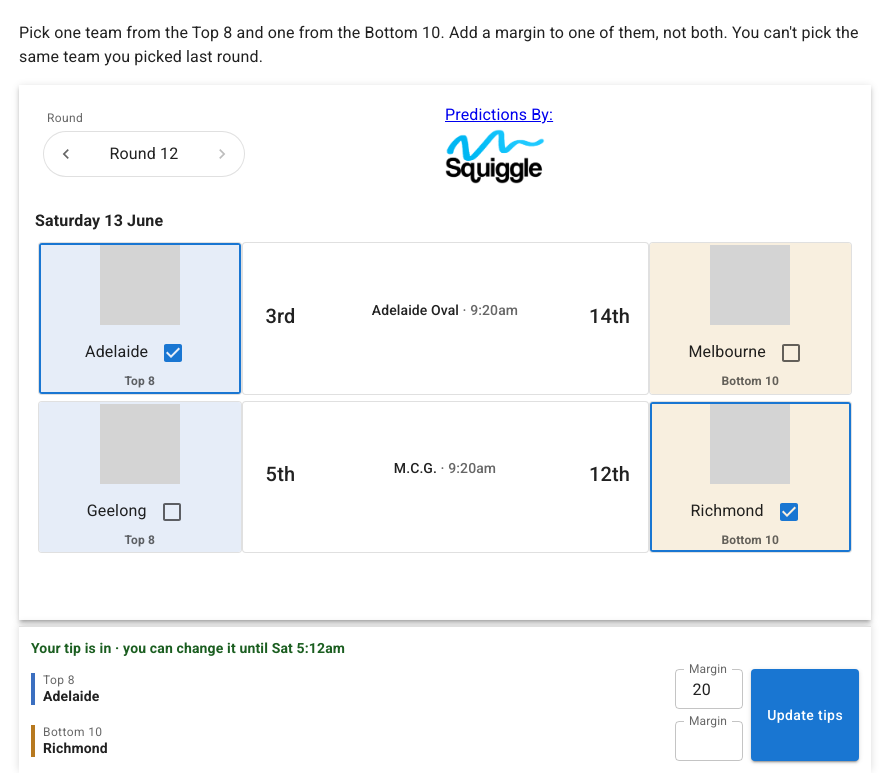
Scenario: the tip being entered stays in view › a changed margin says so, and putting it back says it is in
expect the checkbox labelled "Adelaide Top 8" is checked: met, box top-left (39, 243), bottom-right (240, 394)
Replace the text in the number field named "Margin for Adelaide" with "21" at (709, 689), box top-left (675, 669), bottom-right (743, 709)
(page scrolled)
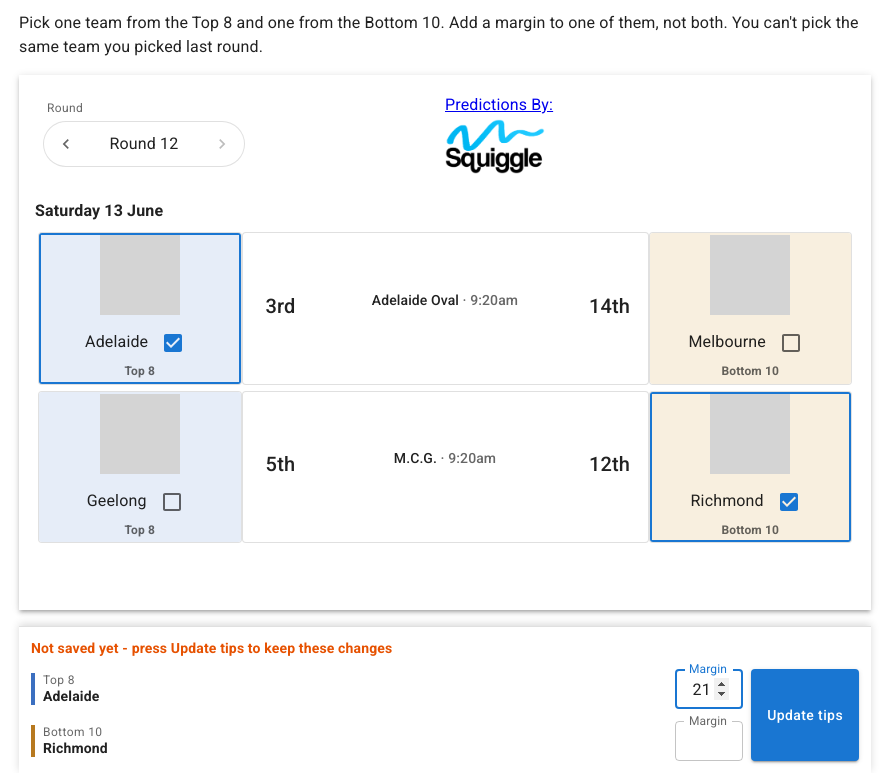
expect the message shows "Not saved yet": met, box top-left (31, 640), bottom-right (392, 656)
Replace the text in the number field named "Margin for Adelaide" with "20" at (709, 689), box top-left (675, 669), bottom-right (743, 709)
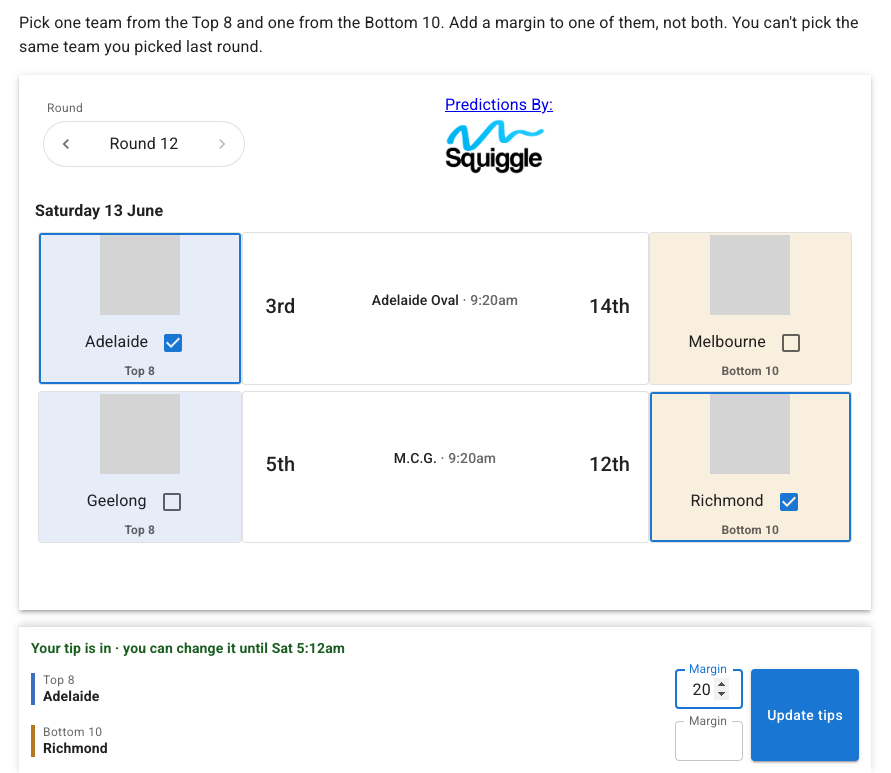
expect the message shows "Your tip is in": met, box top-left (31, 640), bottom-right (345, 656)
